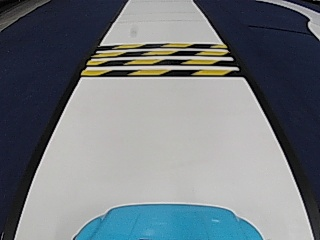bump: (101, 42, 217, 80)
